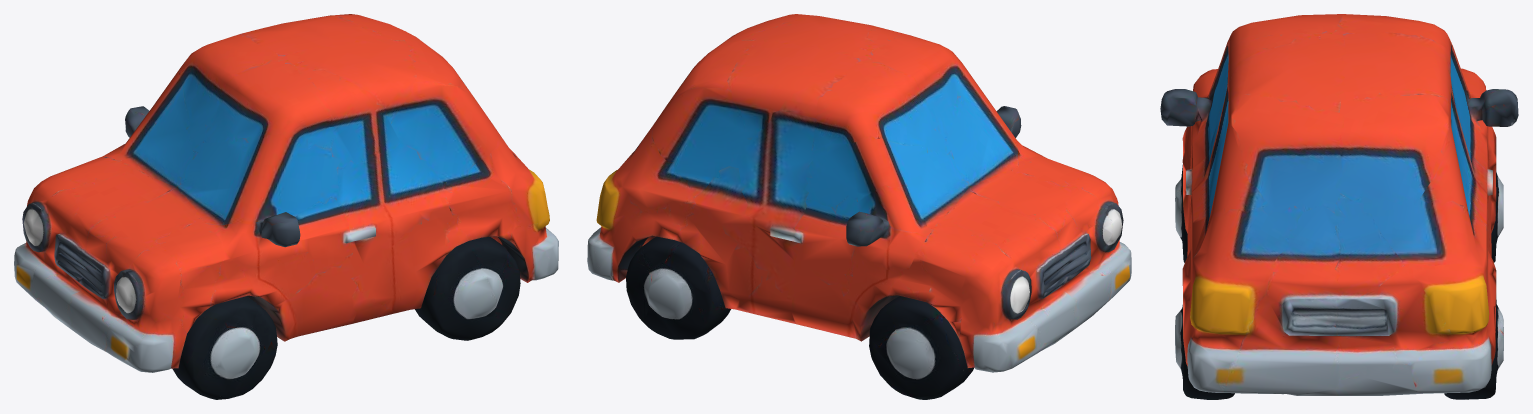
File: carro.glb
3 views of the same model, side by side, from view 1: azimuth 30°, elevation 25°; view 2: azimuth 150°, elevation 25°; view 3: azimuth 270°, elevation 25° (orthographic). The views are drawn at different scales.
Bounding box in the file's own units: 1.9 × 1.11 × 1.22.
Materials: 1 (1 with a texture image).
